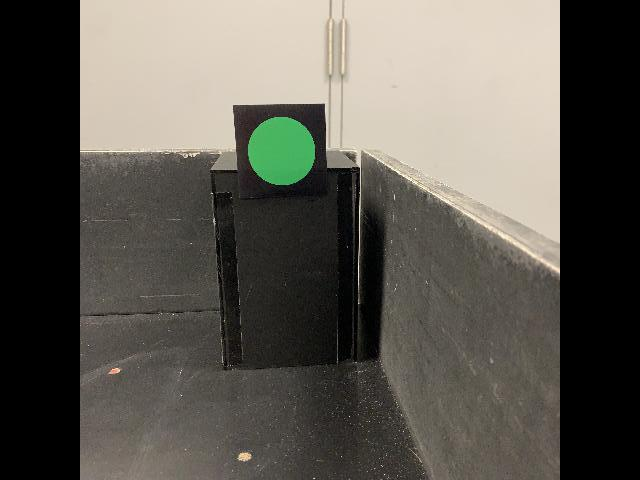go: (232, 102, 328, 200)
